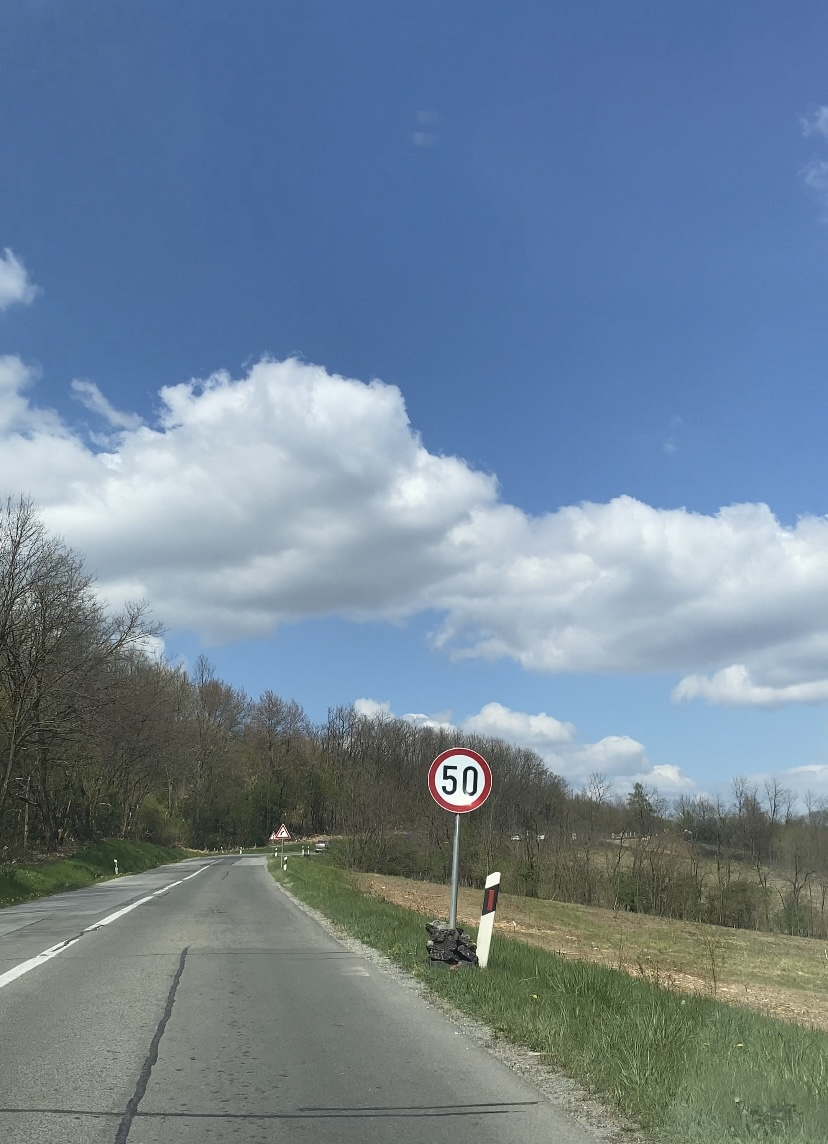Ograničenje brzine 50: (428, 747, 493, 813)
